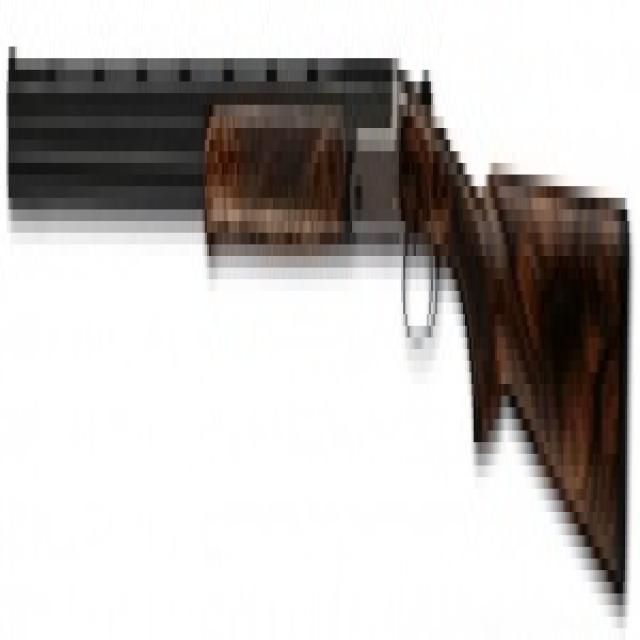rifle: (1, 1, 634, 633)
